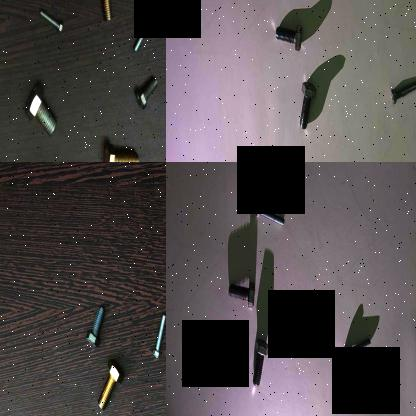Bolts: (19, 80, 59, 136), (95, 350, 127, 416), (79, 299, 105, 355), (247, 332, 272, 389), (340, 324, 374, 362), (253, 194, 287, 232), (226, 271, 256, 311), (133, 68, 159, 114), (274, 13, 304, 52), (297, 76, 317, 130), (100, 136, 141, 162), (387, 72, 416, 107), (36, 0, 62, 36), (148, 310, 166, 362), (130, 12, 152, 53), (94, 0, 114, 21)
